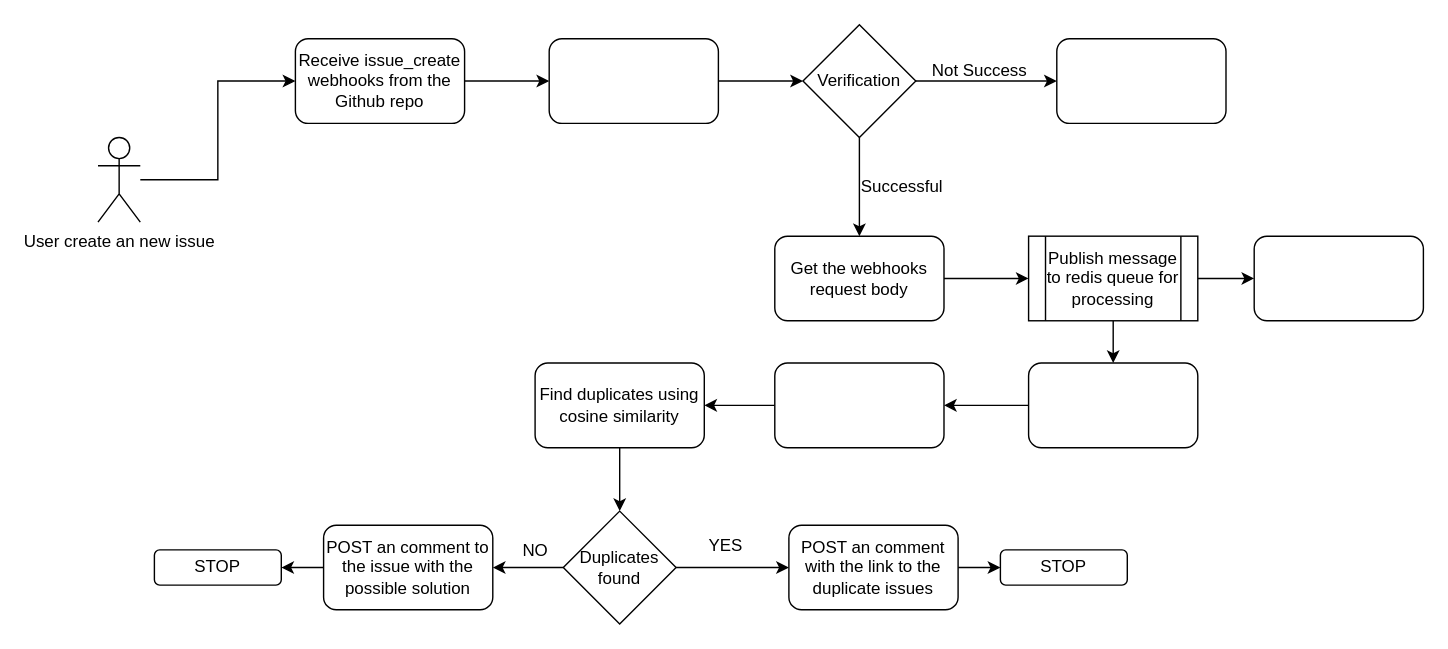
Some shapes in this 1448 by 649 pixel diagram are drawn without their labels. The shapes that lost their labels are listed below. From the top down, each one's box as (x1, y1, x2, y2) in pixels, then its label:
(548, 37, 718, 123): Verify the webhooks
(1055, 37, 1226, 123): Return 400
(1253, 235, 1423, 321): Return 200
(773, 362, 944, 448): Create embeddings of the issue
(1027, 362, 1198, 448): Index all the issues from the repo
